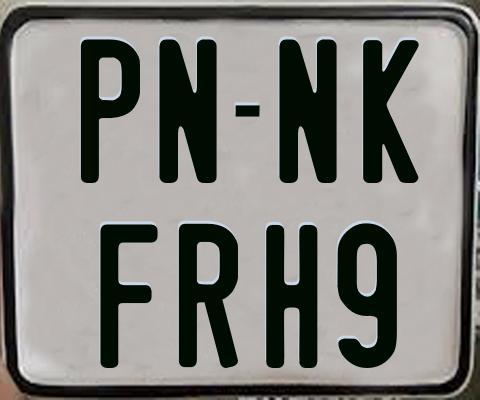9: (335, 223, 399, 370)
F: (97, 223, 156, 370)
H: (263, 225, 316, 371)
K: (361, 39, 423, 185)
N: (159, 39, 223, 188), (277, 38, 341, 183)
P: (78, 39, 140, 189)
R: (176, 221, 237, 366)
